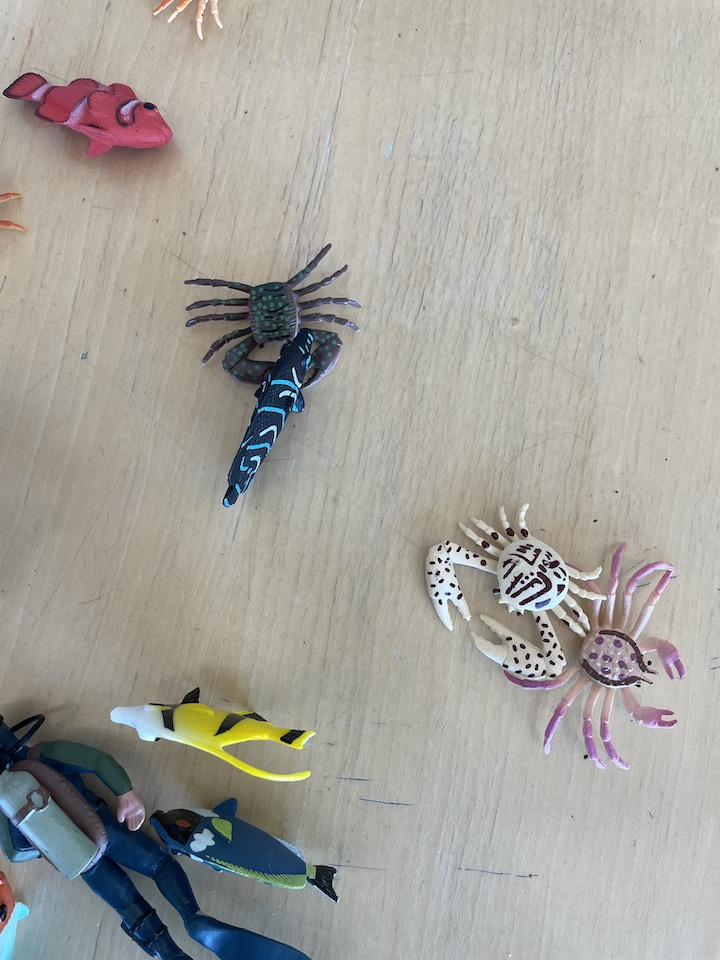crab: (499, 533, 690, 773), (422, 499, 611, 689), (180, 239, 359, 386), (148, 1, 241, 44), (1, 177, 27, 262)
danger: (108, 684, 322, 786)
diver: (1, 700, 316, 960)
fish: (148, 798, 342, 905), (220, 334, 324, 509), (8, 67, 177, 163)
